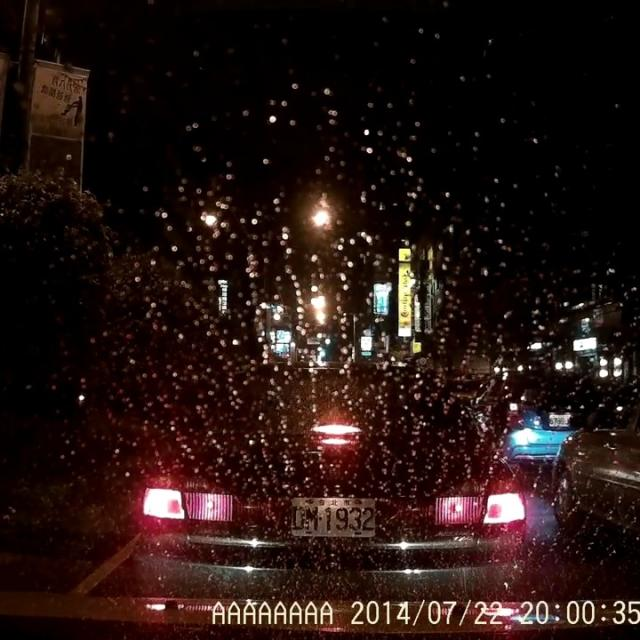Car: (129, 362, 528, 606), (471, 364, 604, 465), (549, 393, 639, 539)
